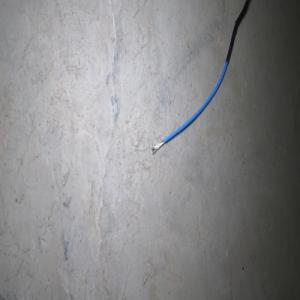Wire: (151, 0, 250, 154)
